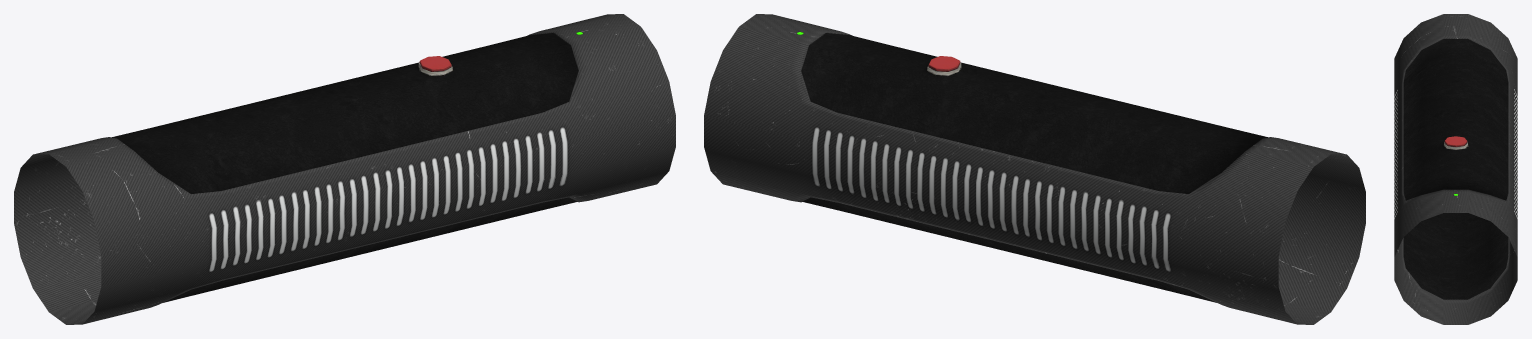
File: grip_2_c_a.glb
3 views of the same model, side by side, from view 1: azimuth 30°, elevation 25°; view 2: azimuth 150°, elevation 25°; view 3: azimuth 270°, elevation 25° (orthographic). The views are drawn at different scales.
Visible parts, largest first — view 1: grip_2_c_a_lod0; view 2: grip_2_c_a_lod0; view 3: grip_2_c_a_lod0.
Boxes of the visible parts, box(x1,y1,x2,y2) form: grip_2_c_a_lod0: box(14, 14, 675, 324); grip_2_c_a_lod0: box(704, 14, 1365, 324); grip_2_c_a_lod0: box(1394, 14, 1517, 324).
Size of what is drawn, in the model's own units: 0.1054 by 0.0287 by 0.0277.
Materials: 1 (1 with a texture image).
